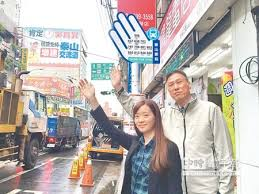hand: (78, 78, 96, 101)
